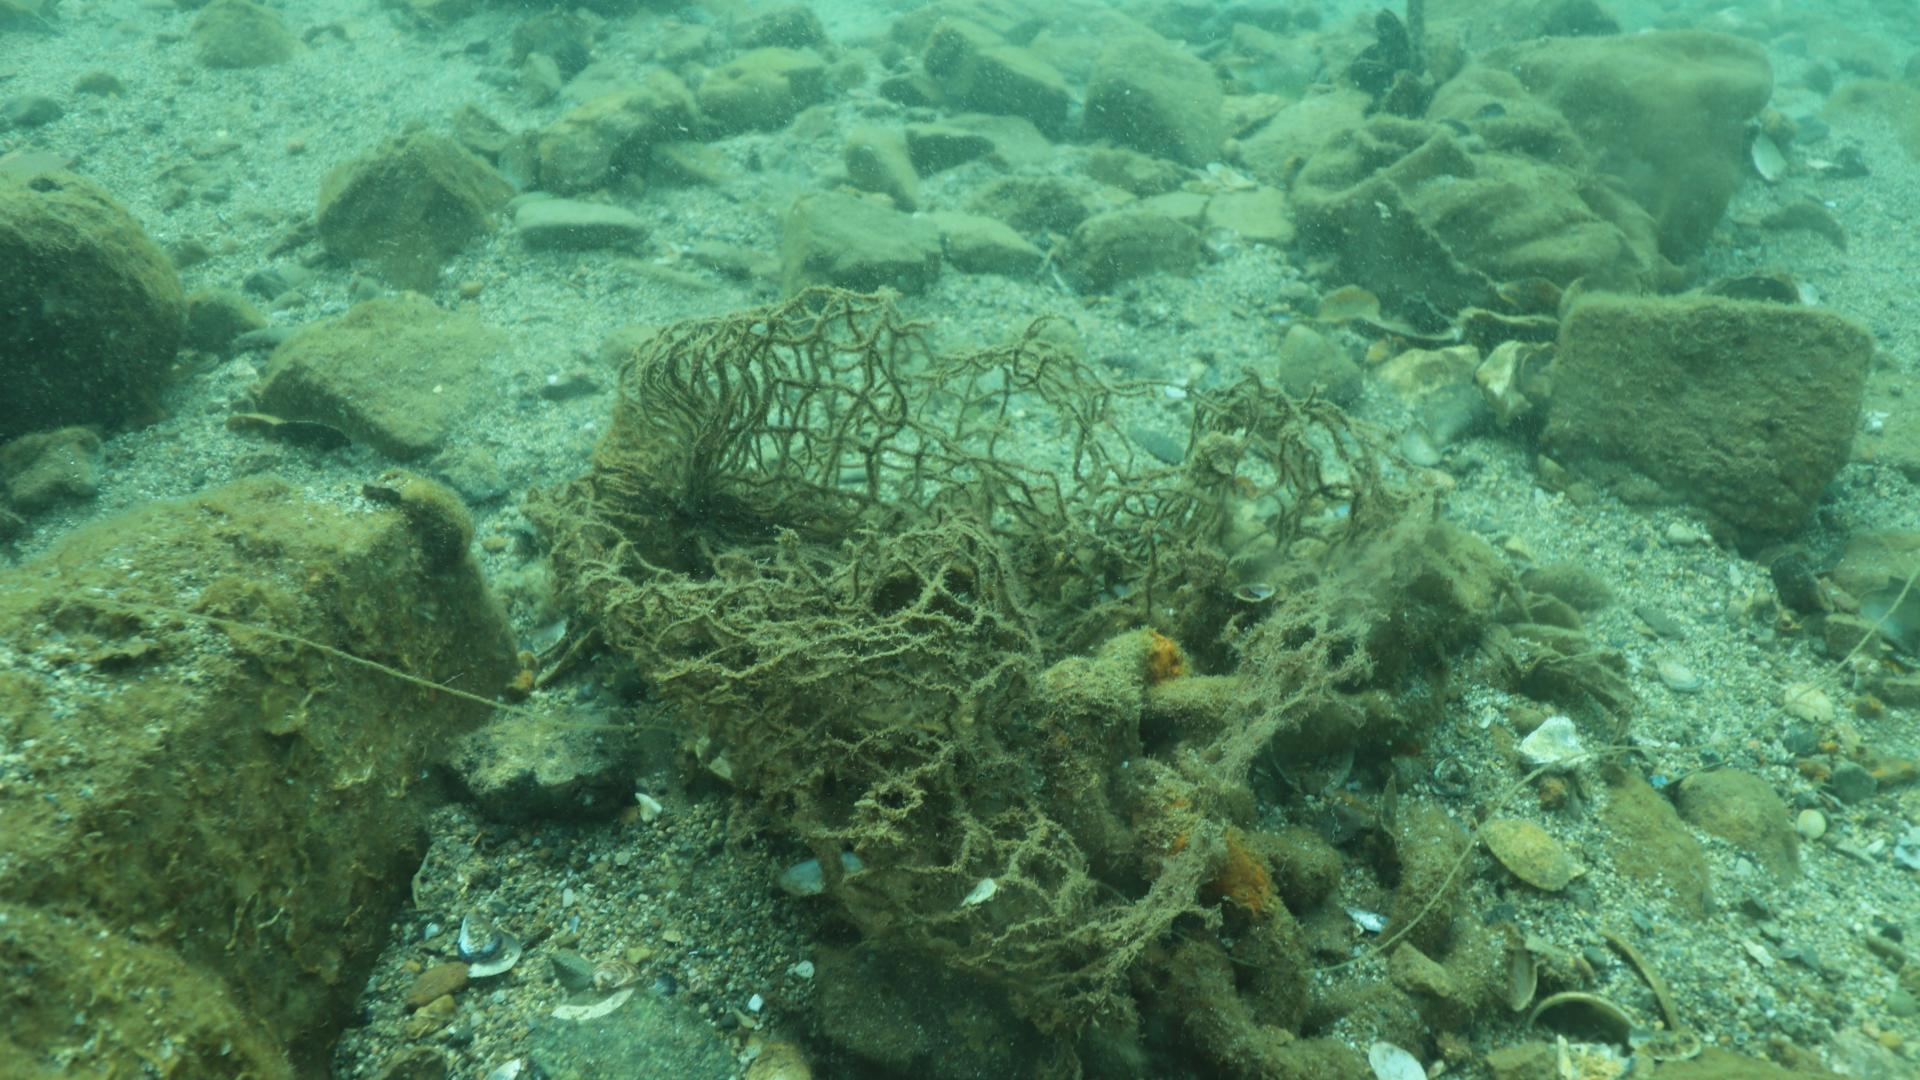fish net: (539, 284, 1224, 777)
